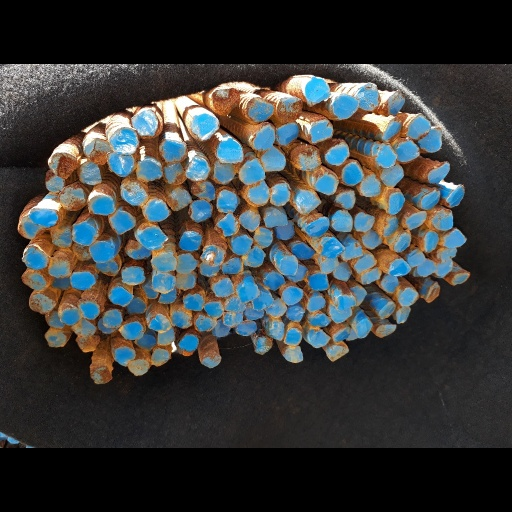dipstick: (190, 113, 219, 141), (109, 128, 139, 155), (137, 226, 168, 251), (48, 153, 79, 178), (130, 109, 157, 137), (107, 150, 134, 177), (211, 88, 240, 113), (158, 139, 188, 163), (295, 145, 321, 172), (58, 185, 86, 210), (332, 94, 358, 120), (239, 159, 265, 185), (84, 139, 110, 165), (247, 97, 274, 122), (216, 138, 243, 163), (109, 209, 136, 234), (357, 82, 380, 111), (305, 77, 330, 103), (277, 97, 303, 122), (260, 147, 286, 172), (244, 181, 270, 206), (142, 199, 171, 221), (419, 125, 443, 151), (121, 181, 147, 205), (250, 284, 273, 311), (16, 216, 43, 239), (296, 190, 321, 214), (71, 222, 96, 246), (341, 234, 363, 261), (188, 199, 212, 223), (162, 161, 186, 185), (408, 114, 431, 139), (381, 163, 404, 188), (310, 120, 333, 145), (269, 182, 292, 207), (77, 161, 102, 184), (28, 207, 58, 226), (325, 143, 349, 166), (213, 159, 236, 183), (214, 213, 238, 236), (168, 187, 191, 211), (253, 125, 275, 150), (124, 239, 151, 259), (427, 160, 450, 183), (216, 190, 239, 213), (89, 239, 112, 262), (264, 207, 288, 229), (186, 157, 208, 181), (89, 194, 114, 215), (383, 117, 403, 143), (199, 246, 225, 266), (28, 294, 55, 313), (242, 246, 266, 267), (230, 234, 254, 255), (177, 230, 201, 251), (23, 247, 47, 268), (151, 273, 176, 293), (108, 286, 133, 306), (119, 320, 144, 340), (150, 253, 177, 271), (341, 162, 363, 184), (322, 237, 344, 259), (237, 281, 259, 303), (396, 140, 419, 161), (331, 210, 352, 233), (275, 123, 298, 144), (281, 285, 304, 306), (48, 256, 71, 277), (50, 227, 73, 248), (191, 181, 215, 201), (121, 266, 145, 286), (89, 365, 113, 385), (315, 174, 337, 195), (238, 211, 260, 232), (376, 145, 396, 168), (360, 174, 380, 197), (272, 220, 295, 240), (148, 312, 171, 332), (77, 300, 100, 320), (447, 183, 465, 208), (387, 91, 405, 116), (328, 304, 353, 322), (290, 242, 315, 260), (70, 271, 95, 289), (22, 272, 47, 290), (334, 189, 355, 210), (266, 297, 287, 318), (175, 253, 196, 274), (432, 208, 452, 230), (45, 170, 65, 192), (443, 228, 466, 247), (354, 254, 377, 273), (212, 278, 235, 297), (75, 335, 100, 352), (71, 319, 96, 336), (362, 228, 382, 249), (253, 226, 273, 247), (421, 187, 440, 209), (405, 210, 427, 229), (307, 216, 329, 235), (113, 347, 135, 366), (388, 258, 411, 276), (262, 272, 285, 290), (169, 311, 192, 329), (94, 259, 118, 276), (398, 286, 418, 306), (354, 212, 374, 232), (287, 262, 307, 282), (279, 254, 298, 275), (174, 272, 195, 291), (220, 257, 243, 274), (333, 261, 352, 281), (310, 329, 330, 348), (150, 348, 170, 367), (60, 307, 81, 325), (334, 294, 356, 311), (235, 319, 257, 336), (221, 310, 243, 327), (195, 315, 217, 332), (388, 191, 404, 214), (254, 336, 273, 355), (309, 272, 329, 290), (283, 345, 303, 363), (267, 320, 285, 340), (183, 293, 203, 311), (202, 350, 222, 368), (102, 308, 122, 326), (224, 296, 245, 313), (203, 301, 224, 318), (178, 334, 199, 351), (128, 359, 149, 376), (45, 330, 66, 347), (134, 334, 156, 350), (417, 258, 435, 277), (320, 255, 338, 274), (212, 318, 230, 337), (72, 242, 91, 260), (350, 286, 367, 306), (361, 267, 381, 284), (329, 345, 349, 362), (356, 318, 372, 339), (243, 304, 264, 320), (198, 261, 220, 276), (435, 259, 453, 277), (407, 249, 425, 267), (393, 233, 411, 251), (381, 274, 399, 292), (284, 328, 302, 346), (157, 287, 176, 304), (285, 306, 305, 322), (126, 297, 146, 313), (436, 245, 457, 260), (425, 282, 440, 303), (424, 231, 439, 252), (374, 324, 396, 338), (49, 276, 71, 290), (46, 311, 64, 328), (332, 326, 351, 342), (156, 329, 175, 345), (383, 216, 398, 236), (313, 311, 330, 328), (307, 296, 325, 312), (97, 318, 116, 333), (396, 306, 411, 324), (451, 271, 470, 285), (379, 303, 395, 319)
